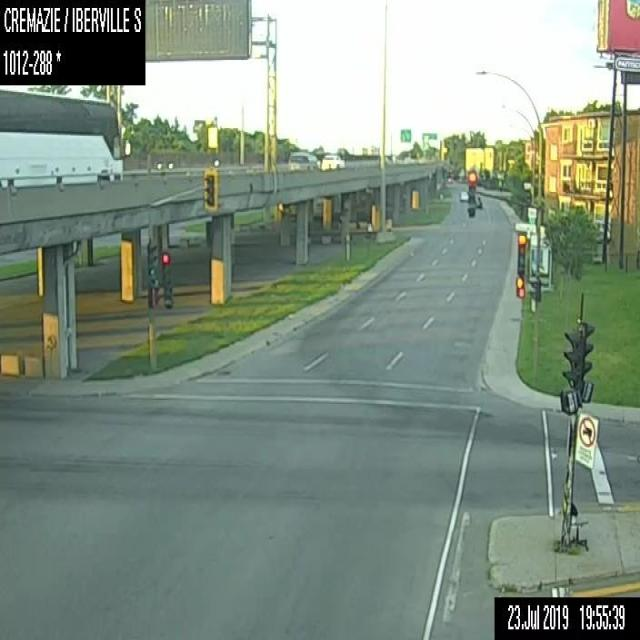bus: (0, 83, 130, 188)
vehicle: (286, 151, 320, 169), (321, 153, 345, 170), (458, 190, 468, 202), (475, 194, 482, 207)
